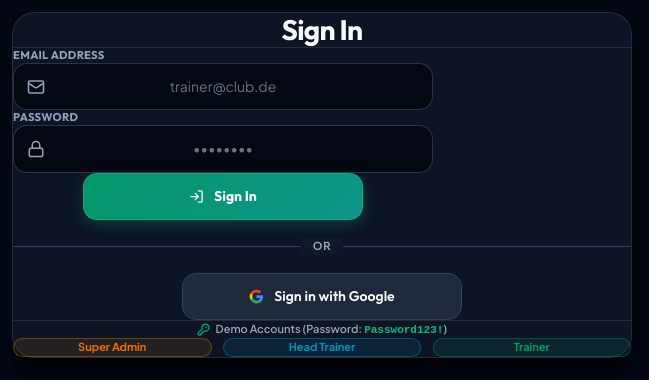
it: LoginForm › populates credentials when demo account buttons are clicked
The width and height of the screenshot is (649, 380).
Click the button "Super Admin" at {"x": 112, "y": 348}, box [13,338,212,357]
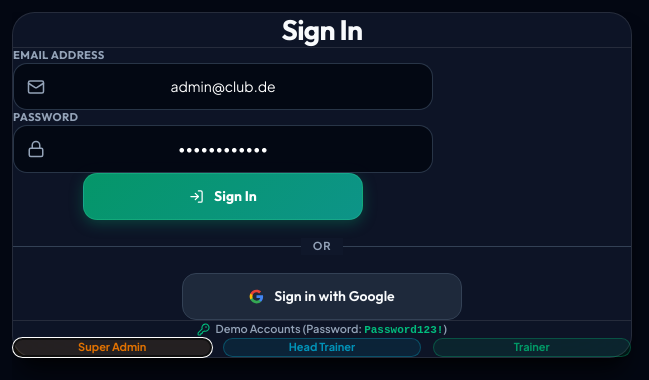
Result: the field labelled "Email Address" holds "admin@club.de" at [13,63,433,110]
Result: the password field labelled "Password" holds "Password123!" at [13,125,433,173]
